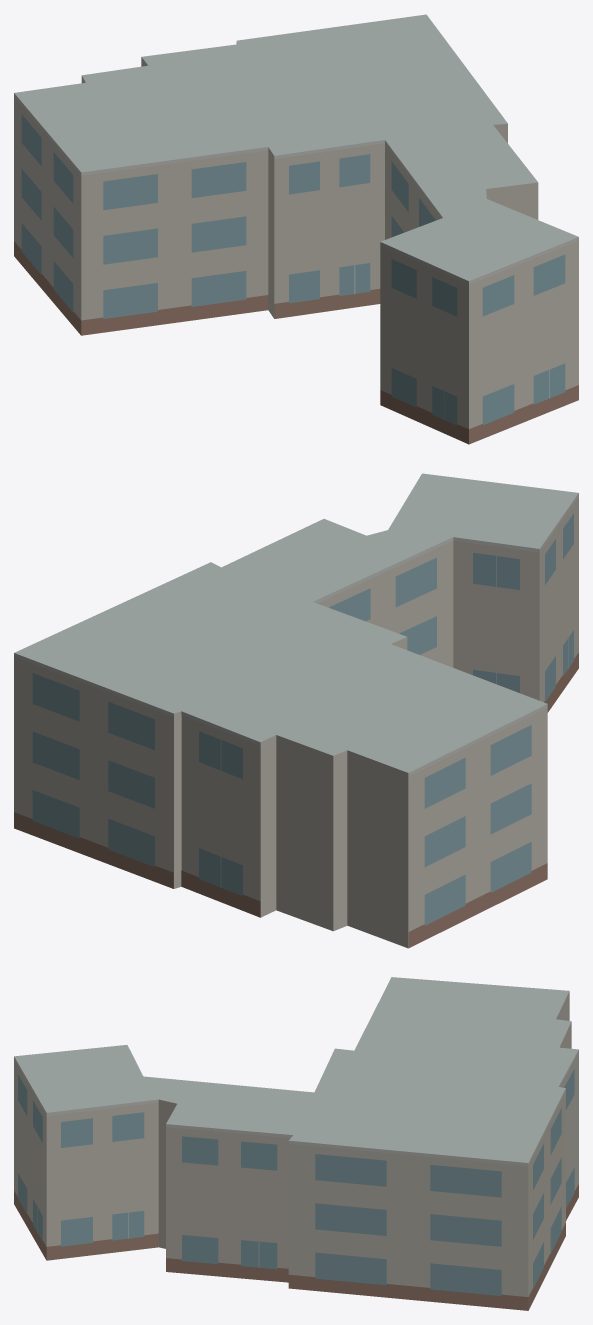
The model's file is survey-upis-33044786.glb.
3 views of the same model, one above another, from view 1: azimuth 30°, elevation 25°; view 2: azimuth 150°, elevation 25°; view 3: azimuth 270°, elevation 25° (orthographic). The views are drawn at different scales.
Visible parts, largest first — view 1: survey-upis-33044786.tmp; view 2: survey-upis-33044786.tmp; view 3: survey-upis-33044786.tmp.
Boxes of the visible parts, x1,y1,x2,y2 form: survey-upis-33044786.tmp: (14,14,578,444); survey-upis-33044786.tmp: (14,473,578,948); survey-upis-33044786.tmp: (14,977,578,1310).
Size of the model in its own units: 31.85 by 11.8 by 40.87.
